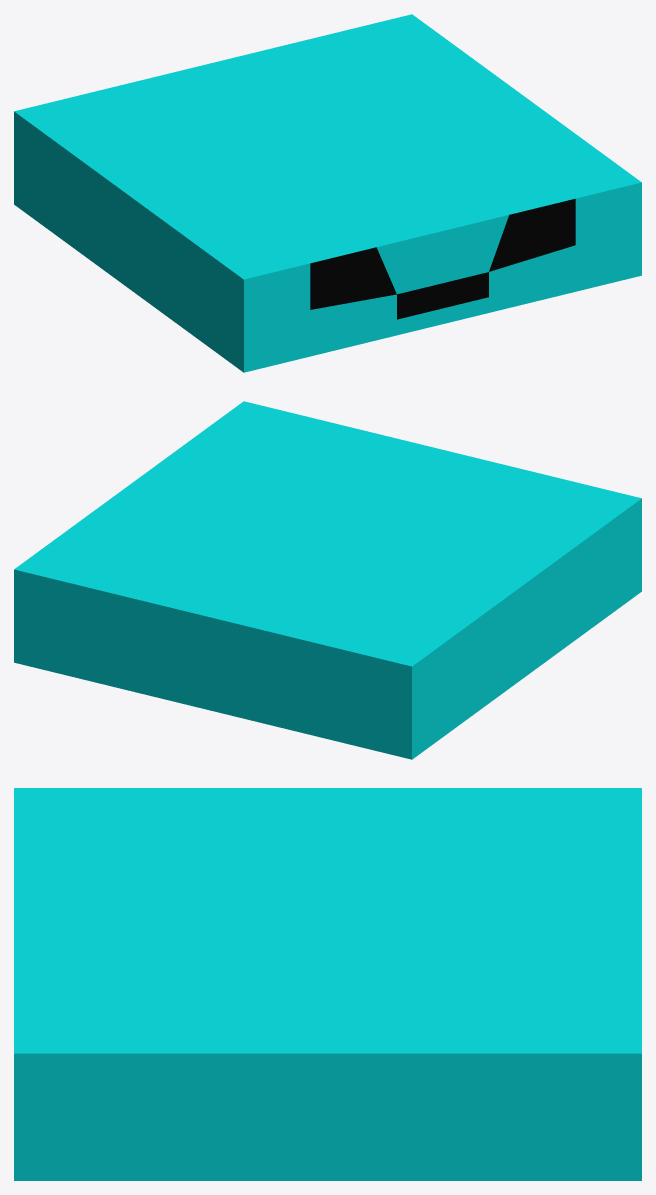
File: TempPapelitoMovement.fbx
3 views of the same model, one above another, from view 1: azimuth 30°, elevation 25°; view 2: azimuth 150°, elevation 25°; view 3: azimuth 270°, elevation 25° (orthographic). The views are drawn at different scales.
Parts seen in each view (by area): view 1: PapelitoMovement; view 2: PapelitoMovement; view 3: PapelitoMovement.
Boxes of the visible parts, x1,y1,x2,y2 form: PapelitoMovement: [14, 14, 641, 372]; PapelitoMovement: [14, 401, 641, 759]; PapelitoMovement: [14, 788, 641, 1180].
Size of the model in its own units: 200 by 44.73 by 200.
